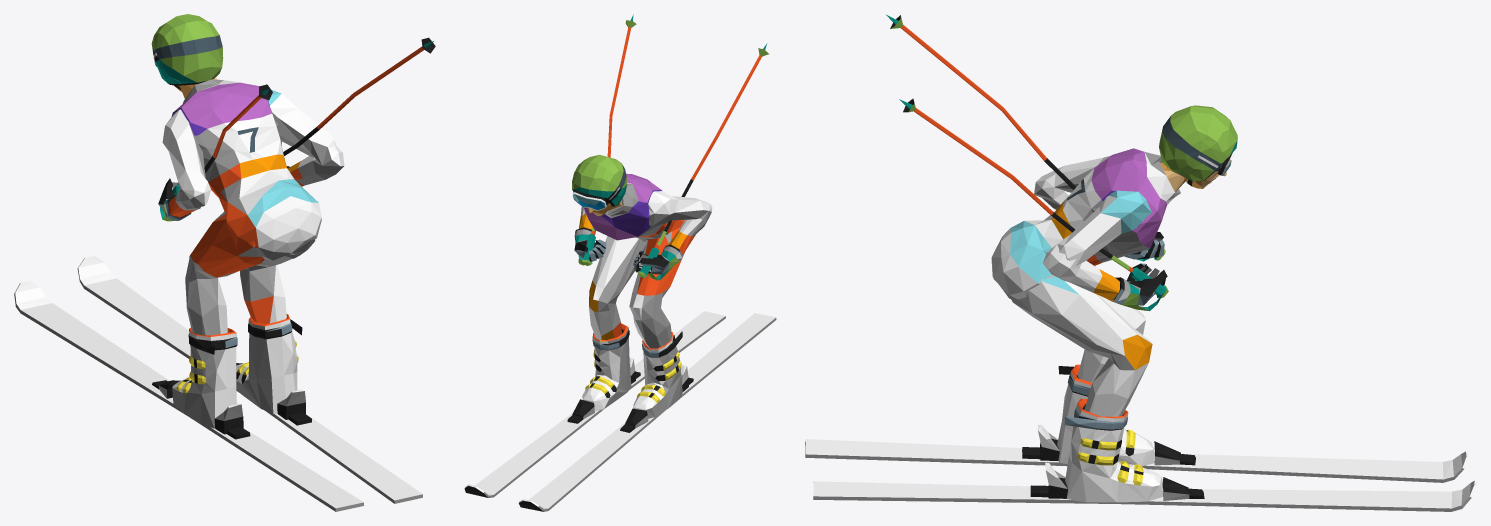
File: skier_low_poly_character.glb
3 views of the same model, side by side, from view 1: azimuth 30°, elevation 25°; view 2: azimuth 150°, elevation 25°; view 3: azimuth 270°, elevation 25° (orthographic). The views are drawn at different scales.
Visible parts, largest first — view 1: group1622693884, group1024749857, group1126505564, group379169632, group2032061265, group1957457281, group1526765313, group1996118965, group1812052774, group1538282207, group584479271, group1507658319 (+3 smaller); view 2: group1024749857, group1126505564, group1996118965, group1622693884, group379169632, group2032061265, group1957457281, group1526765313, group1812052774, group879022602, group557752555, group1507658319 (+3 smaller); view 3: group1126505564, group1024749857, group1622693884, group1996118965, group1957457281, group1526765313, group1538282207, group2032061265, group584479271, group1507658319, group306099743, group879022602 (+2 smaller).
Part boxes in pixels (x1,y1,x2,y2): group1622693884: (171, 79, 321, 260); group1024749857: (14, 281, 363, 511); group1126505564: (77, 256, 422, 503); group379169632: (185, 211, 264, 335); group2032061265: (172, 328, 237, 428); group1957457281: (236, 314, 302, 413); group1526765313: (151, 14, 223, 85); group1996118965: (240, 239, 315, 324); group1812052774: (162, 109, 207, 190); group1538282207: (268, 90, 336, 165); group584479271: (287, 145, 344, 186); group1507658319: (283, 37, 435, 155); group1024749857: (518, 313, 776, 511); group1126505564: (464, 311, 725, 497); group1996118965: (589, 236, 646, 340); group1622693884: (584, 173, 684, 241); group379169632: (629, 227, 684, 348); group2032061265: (633, 331, 682, 418); group1957457281: (582, 323, 631, 411); group1526765313: (572, 154, 627, 206); group1812052774: (648, 191, 709, 225); group879022602: (638, 43, 768, 277); group557752555: (633, 244, 683, 280); group1507658319: (582, 14, 636, 265); group1126505564: (813, 462, 1476, 511); group1024749857: (805, 424, 1468, 482); group1622693884: (991, 148, 1180, 299); group1996118965: (1008, 276, 1152, 416); group1957457281: (1064, 398, 1163, 502); group1526765313: (1159, 105, 1237, 181); group1538282207: (1057, 190, 1151, 265); group2032061265: (1057, 364, 1154, 466); group584479271: (1043, 244, 1120, 302); group1507658319: (899, 98, 1168, 298); group306099743: (1110, 263, 1167, 311); group879022602: (886, 14, 1165, 260).
Bounding box in the file's own units: 0.7679 × 1.72 × 2.35.
